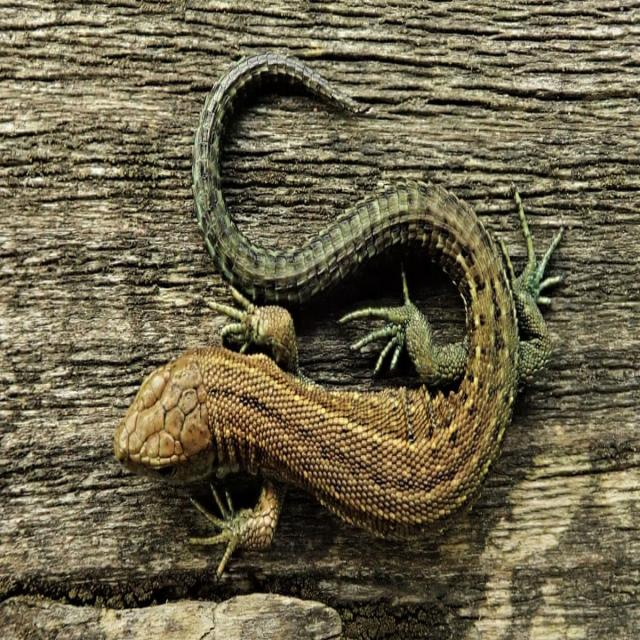Lizard: (116, 50, 556, 583)
